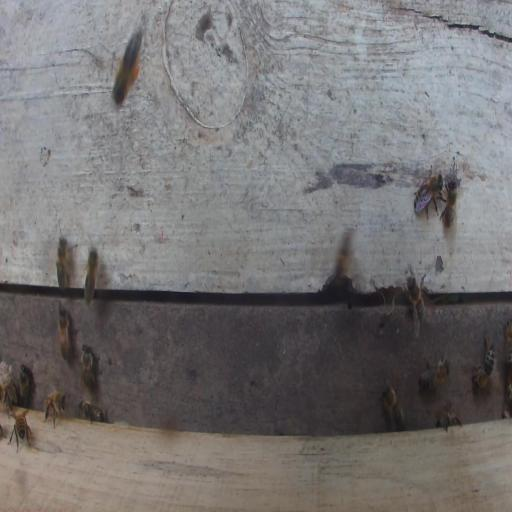nonpollenbee: (403, 262, 428, 339), (413, 166, 444, 219), (418, 350, 451, 399), (471, 335, 495, 390), (7, 403, 31, 453), (55, 232, 76, 289), (381, 384, 405, 430), (43, 390, 68, 430), (57, 303, 73, 362), (441, 175, 458, 230), (84, 247, 99, 305), (81, 343, 97, 387), (1, 363, 17, 404), (77, 399, 104, 423), (435, 407, 462, 431), (18, 364, 33, 404), (506, 319, 512, 363)
pollenbee: (109, 25, 145, 108)
